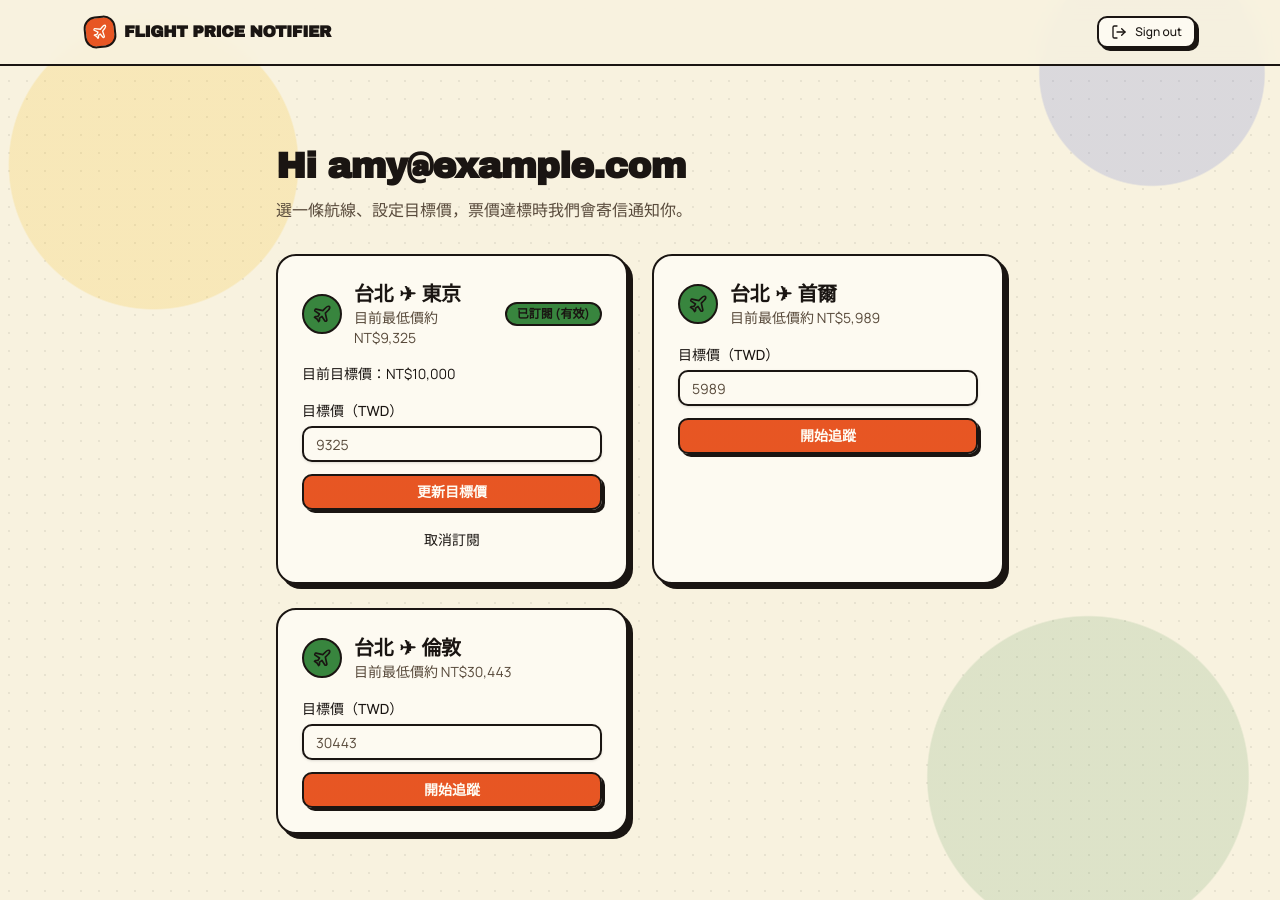
Test case: Dashboard cancel and grace period › keeps the subscription when the confirmation is dismissed
Click the button "取消訂閱": point(452, 540) 302,522 -> 602,558
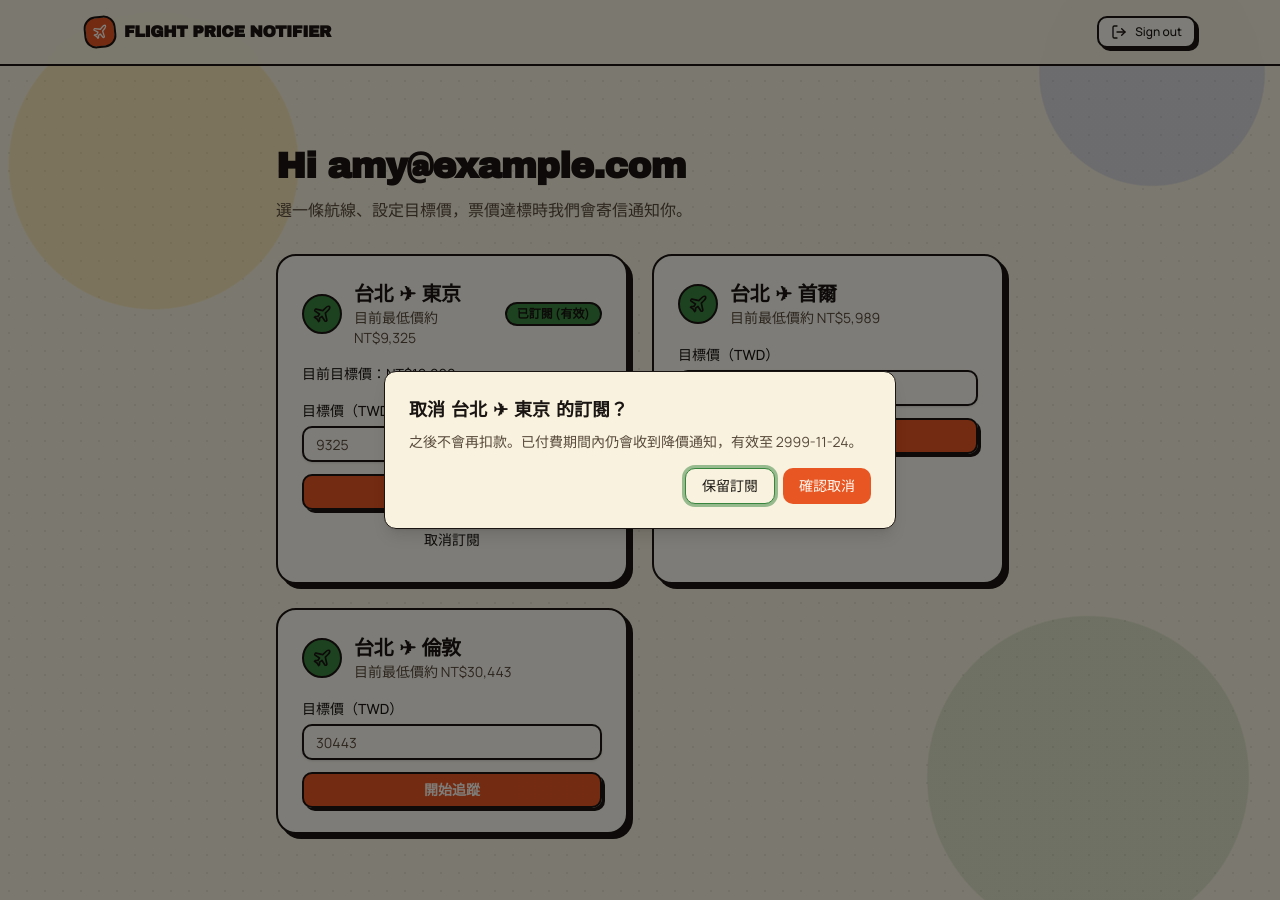
Click the button "保留訂閱": point(730, 486) 685,468 -> 775,504
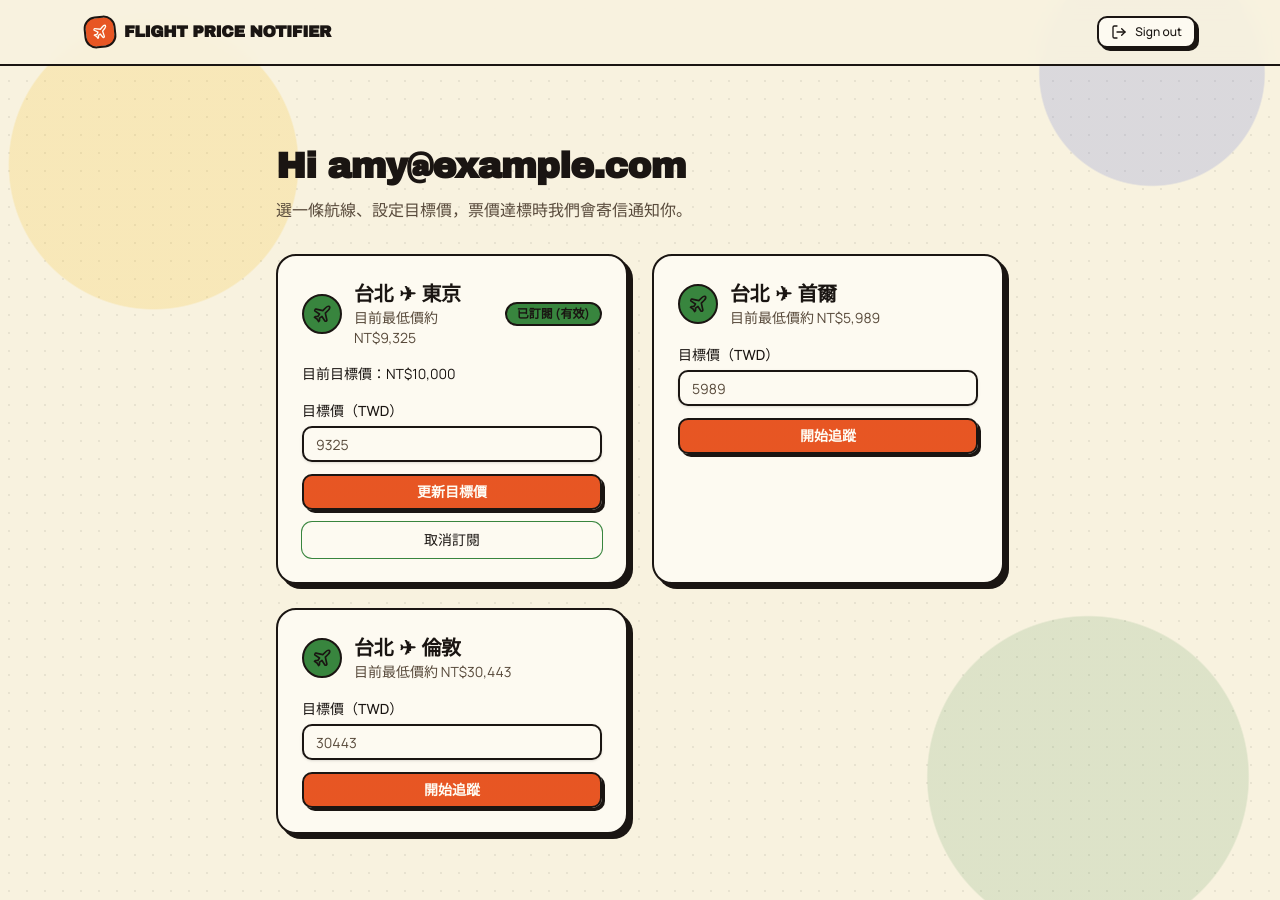
Check: the text "已訂閱 (有效)" is shown, box 505,302 -> 602,326
Check: the dialog is gone
